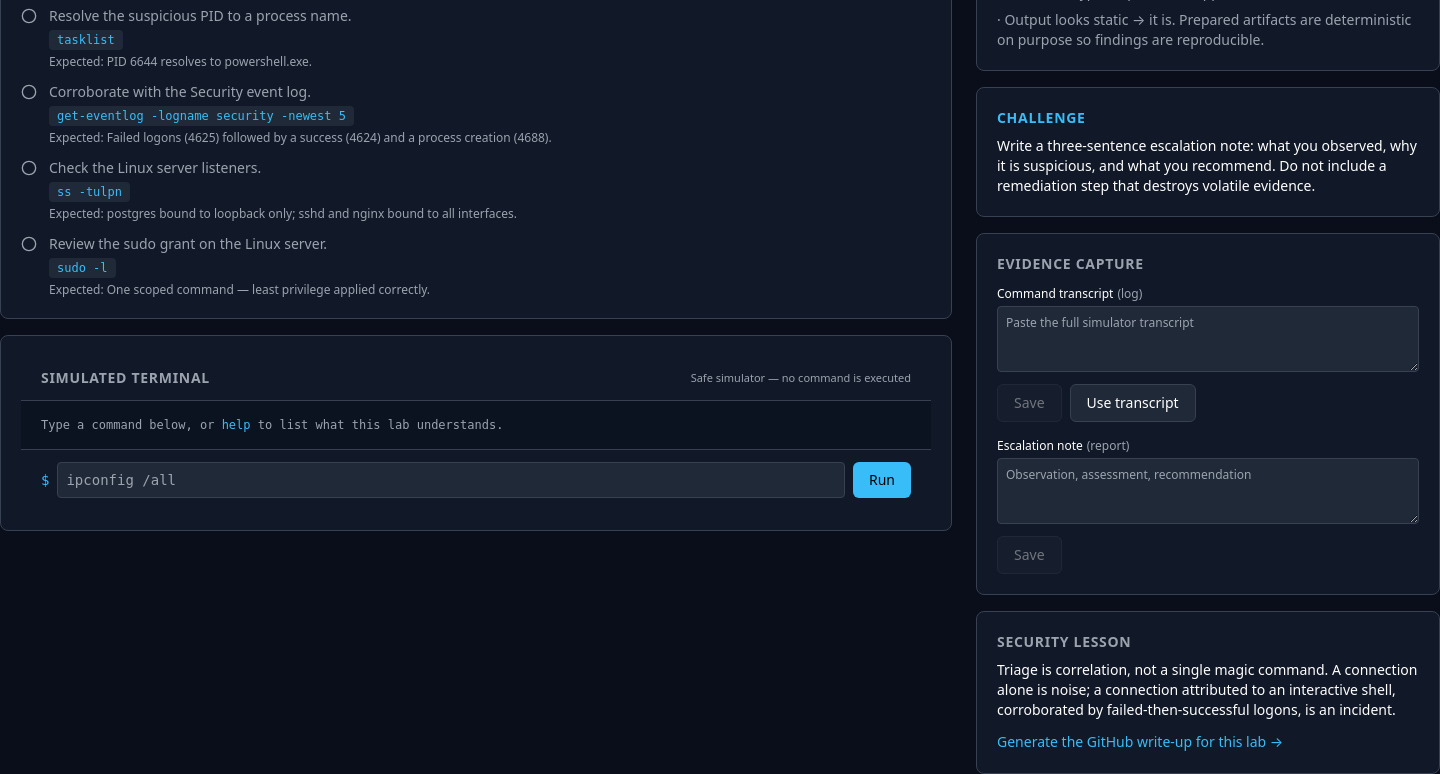
Test: LabView › submits on Enter as well as the Run button
The width and height of the screenshot is (1440, 774).
(page scrolled)
Type "whoami" into the field named "Simulated command input" at (451,480), box top-left (57, 462), bottom-right (845, 498)
Then press Enter
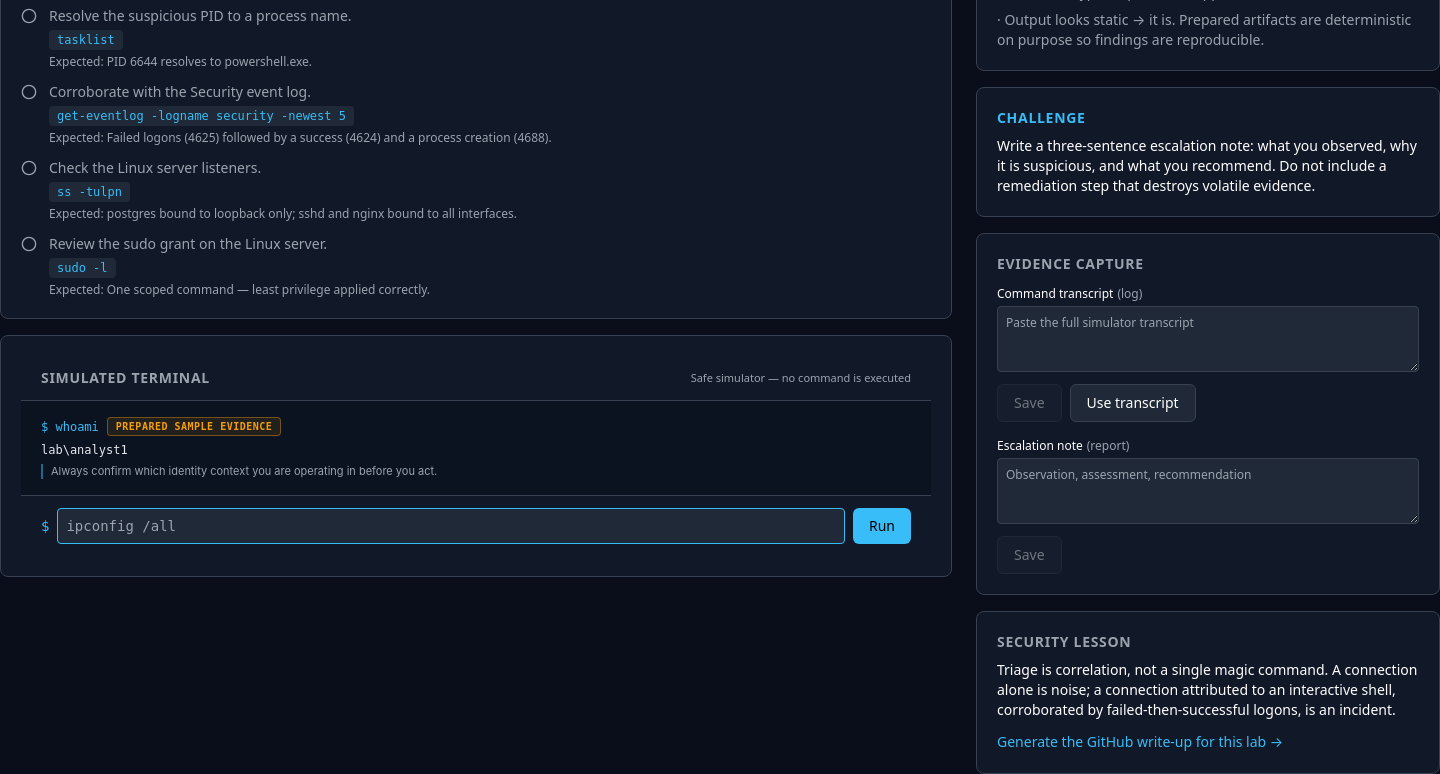
Expected: the field named "Simulated command input" is empty, top-left (57, 508), bottom-right (845, 544)
Now the text "$ whoami" is shown, box top-left (41, 419), bottom-right (99, 435)
